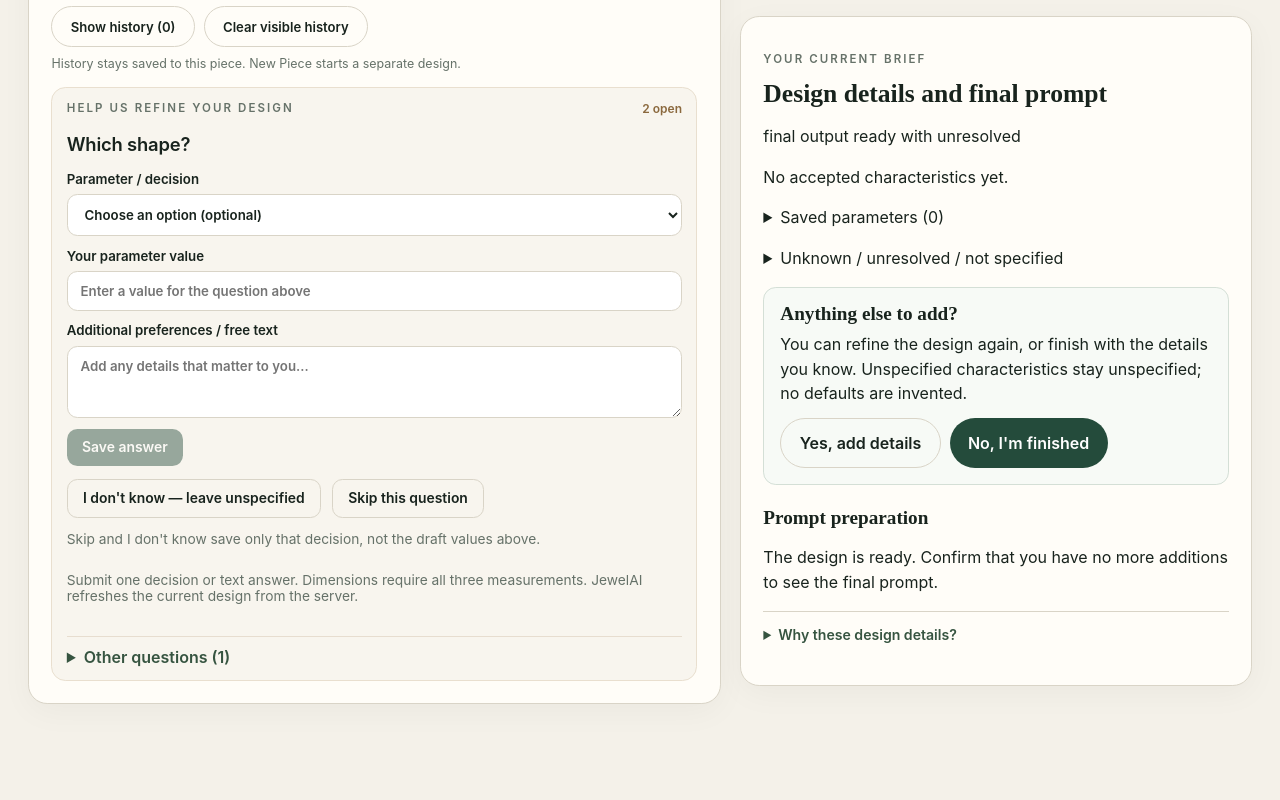
Prompt Enrichment workspace › presents a focused active question and expandable server-authorized choices
This screenshot has width=1280, height=800.
Later steps or results of the test are not shown.
(page scrolled)
Expected: the heading "Which shape?" is shown, [67,133,190,155]
Click the heading "Other questions (1)" at (157, 657), box [84,647,230,667]
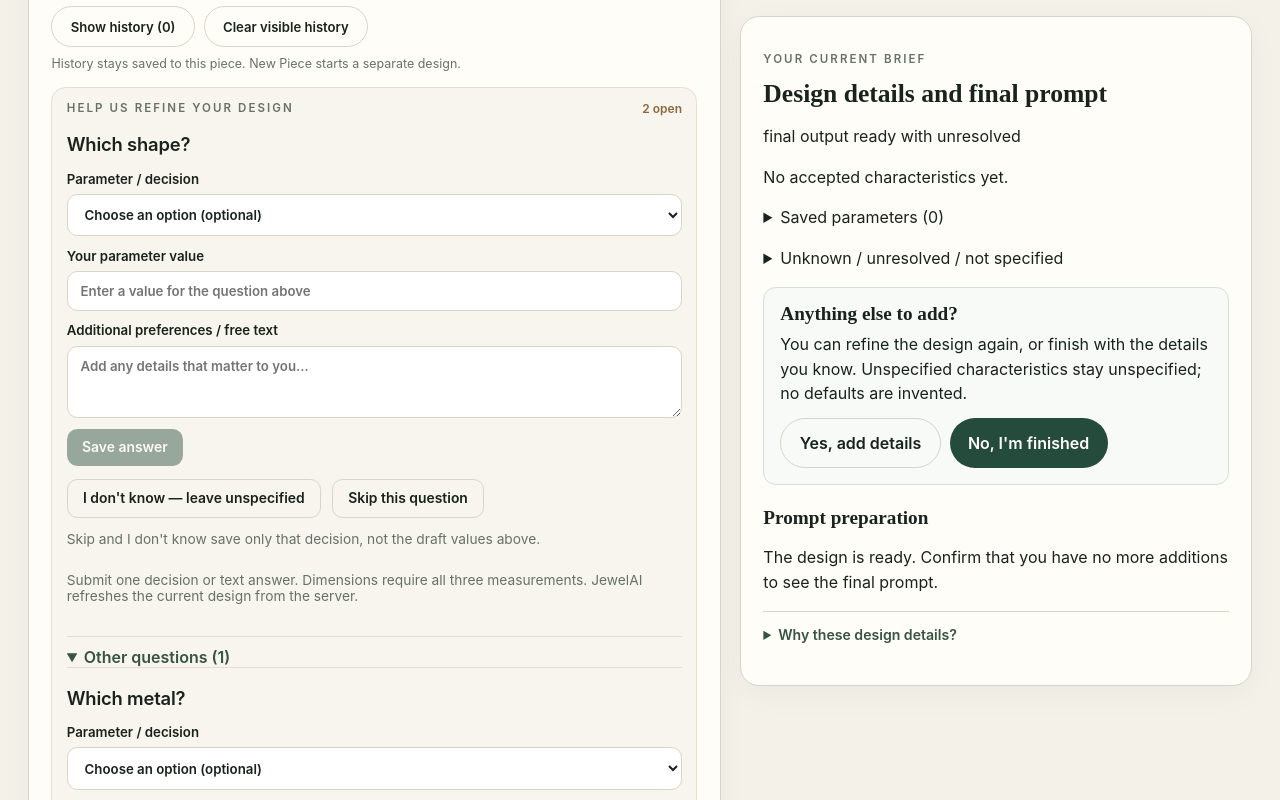
Expected: the heading "Which metal?" is shown, [67,687,185,709]
